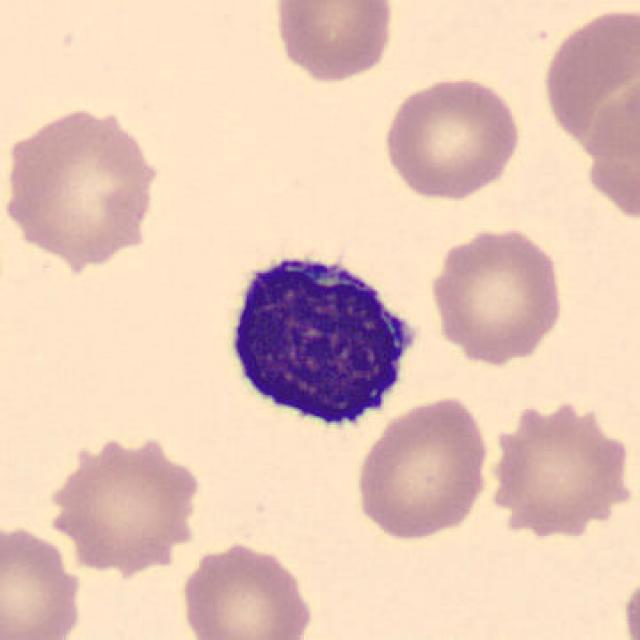Lymphocyte: (212, 235, 430, 446)
RBC: (0, 100, 167, 268), (39, 430, 206, 571), (350, 391, 494, 543), (482, 395, 634, 538), (425, 222, 567, 365), (378, 72, 524, 203), (537, 2, 636, 155), (175, 537, 316, 640), (268, 0, 398, 85), (0, 522, 85, 640), (581, 67, 640, 230), (620, 566, 640, 640)
